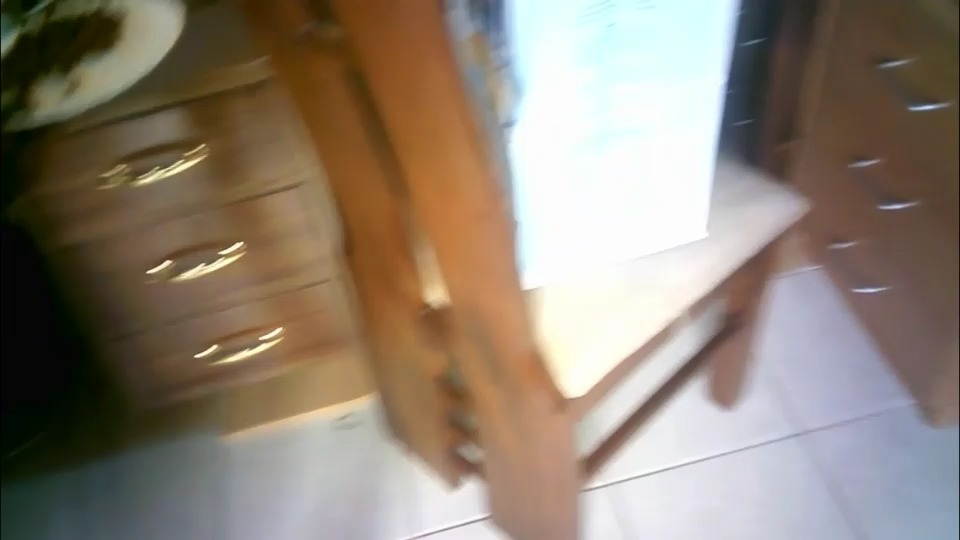wheat_flour_blue_label: (468, 7, 738, 243)
